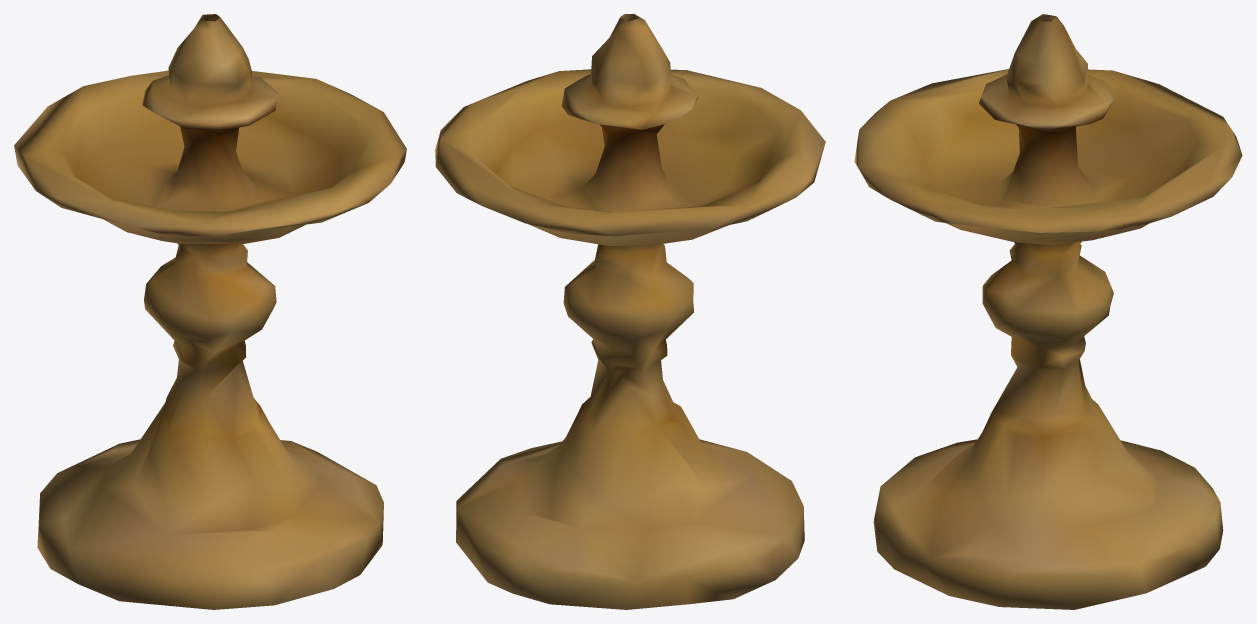
File: post-lamp.glb
3 views of the same model, side by side, from view 1: azimuth 30°, elevation 25°; view 2: azimuth 150°, elevation 25°; view 3: azimuth 270°, elevation 25° (orthographic).
Parts seen in each view (by area): view 1: lamp; view 2: lamp; view 3: lamp.
Boxes of the visible parts, <box> form: lamp: <box>14,14,406,609</box>; lamp: <box>435,14,825,609</box>; lamp: <box>854,14,1242,609</box>.
Size of the model in its own units: 0.1904 by 0.2795 by 0.1894.
